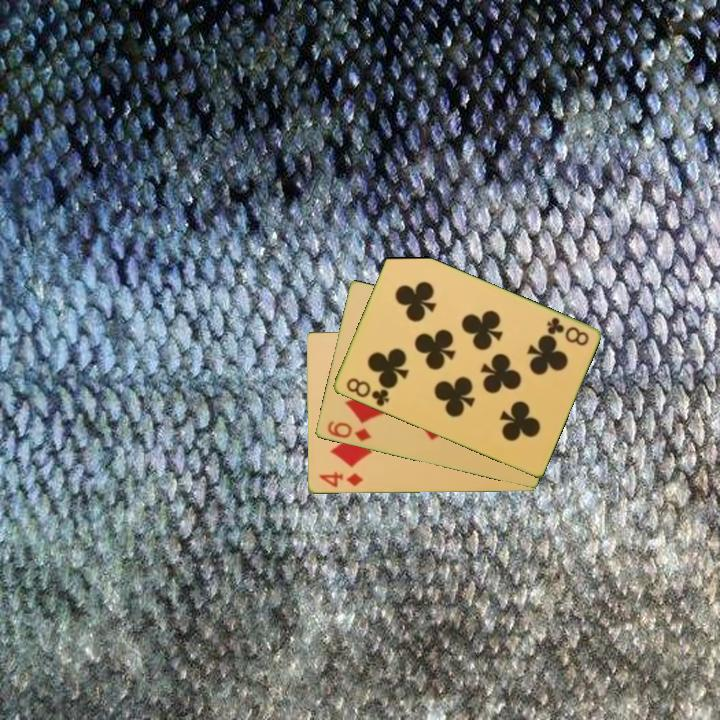4d: (316, 469, 365, 490)
6d: (323, 417, 374, 444)
8c: (342, 374, 392, 410), (543, 314, 592, 349)
